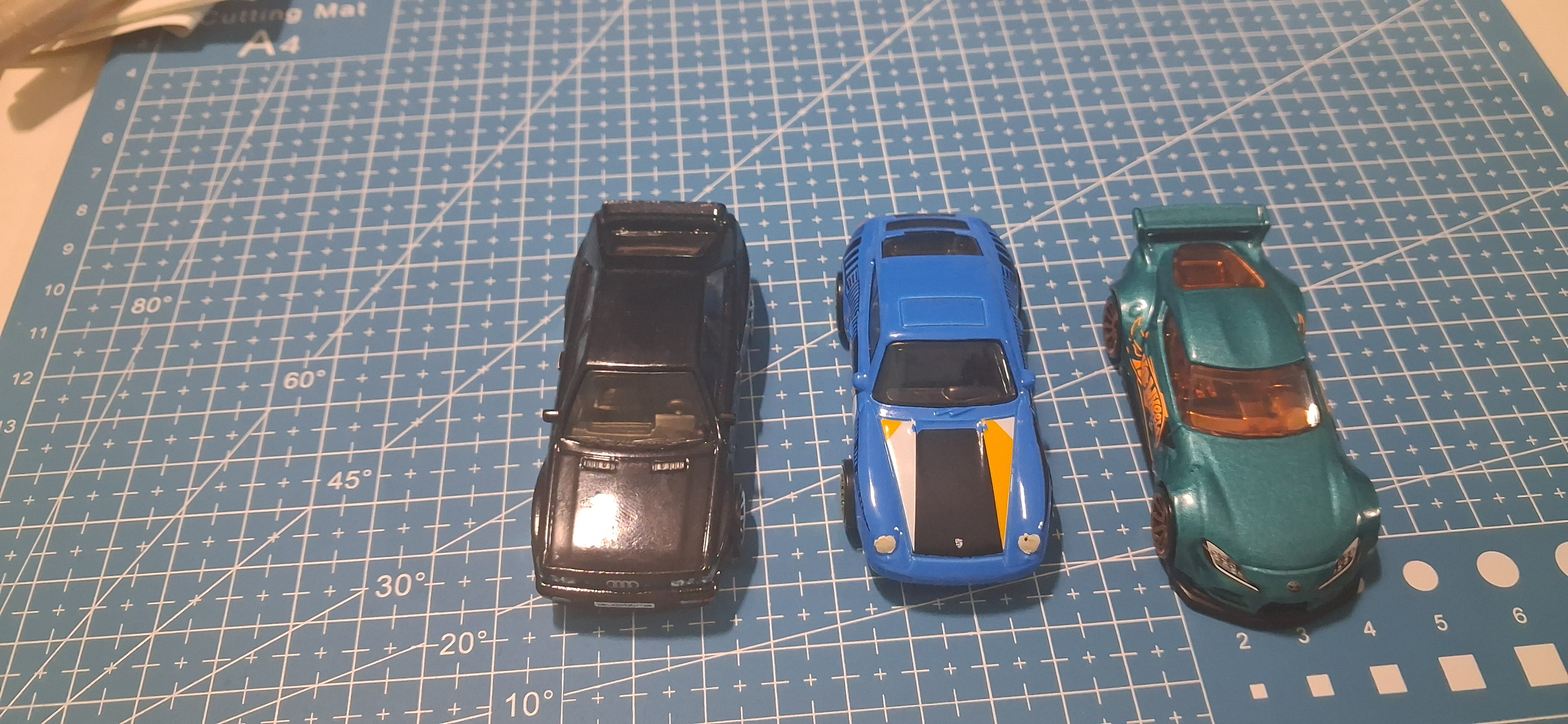Audi_Quattro: (535, 148, 757, 668)
Porsche_Carrera: (803, 163, 1082, 657)
Toyota_GR_Supra: (1085, 148, 1413, 645)
